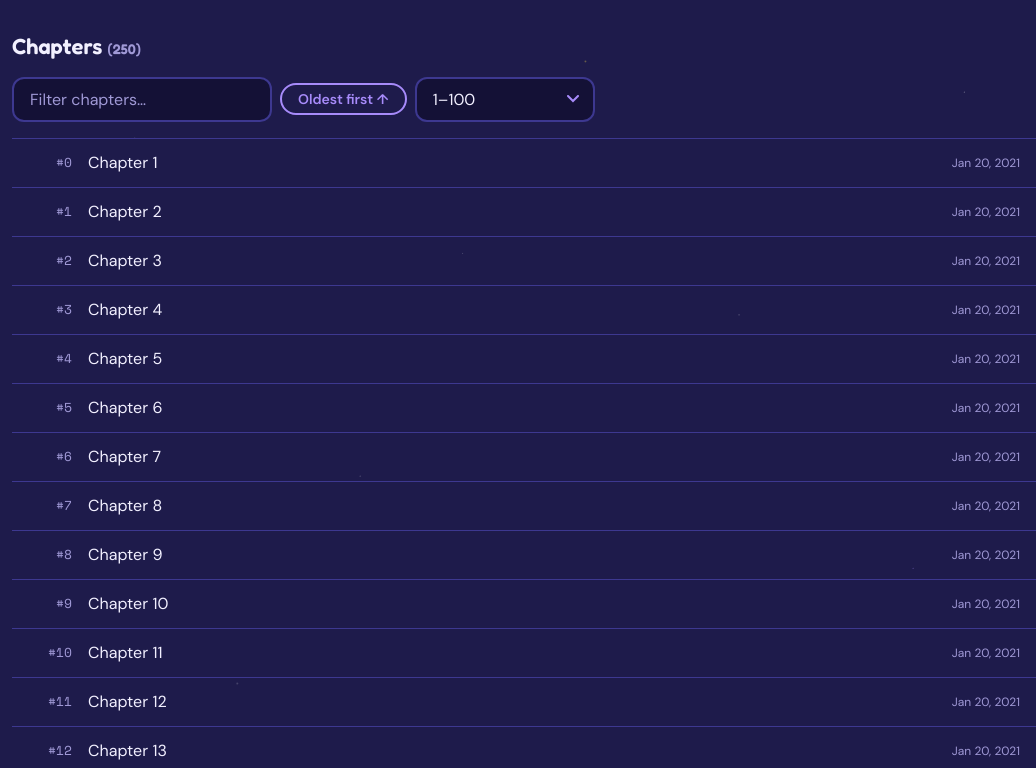
Test case: ChapterList › toggles between oldest-first and newest-first
Click the button "Oldest first ↑".
click(343, 99)  # box [280,83,407,115]
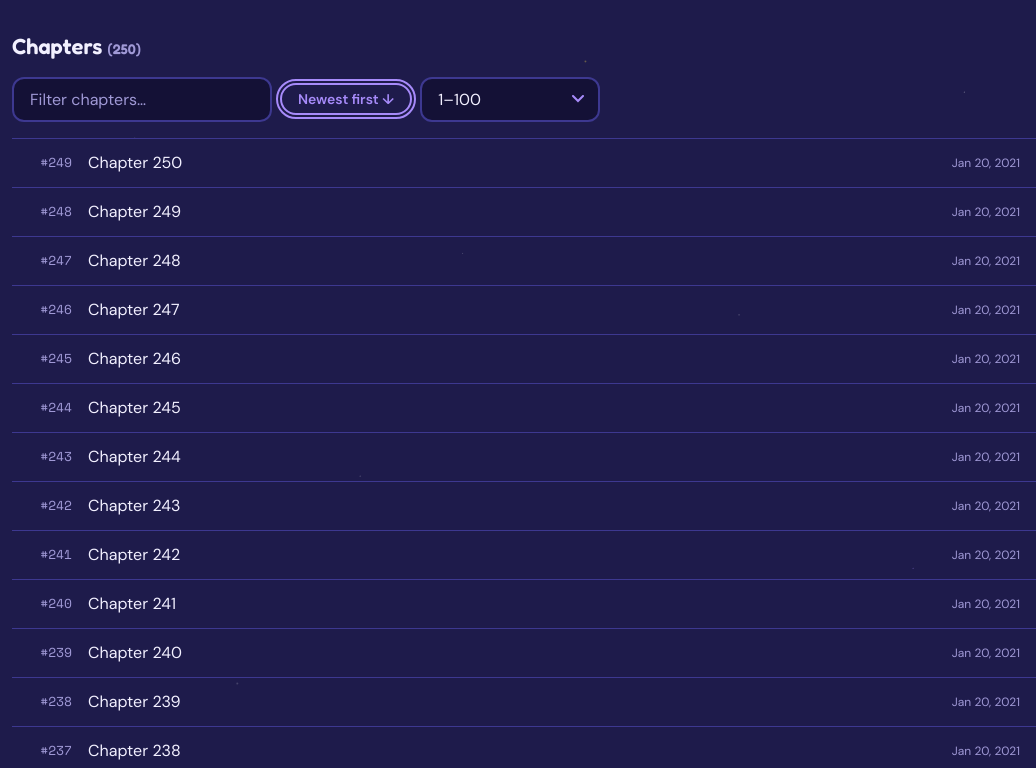
Expected: the list item "#249 Chapter 250 Jan 20, 2021" is shown, [12,139,1035,188]
Click the button "Newest first ↓".
click(346, 99)  # box [280,83,412,115]
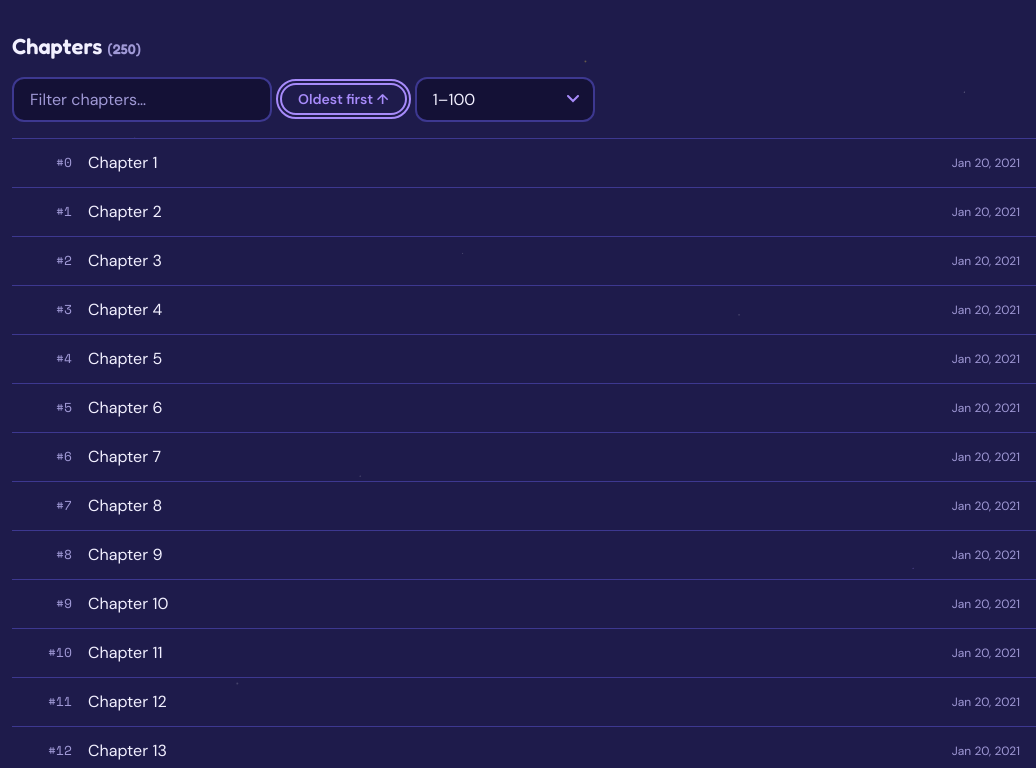
Expected: the list item "#0 Chapter 1 Jan 20, 2021" is shown, [12,139,1035,188]
